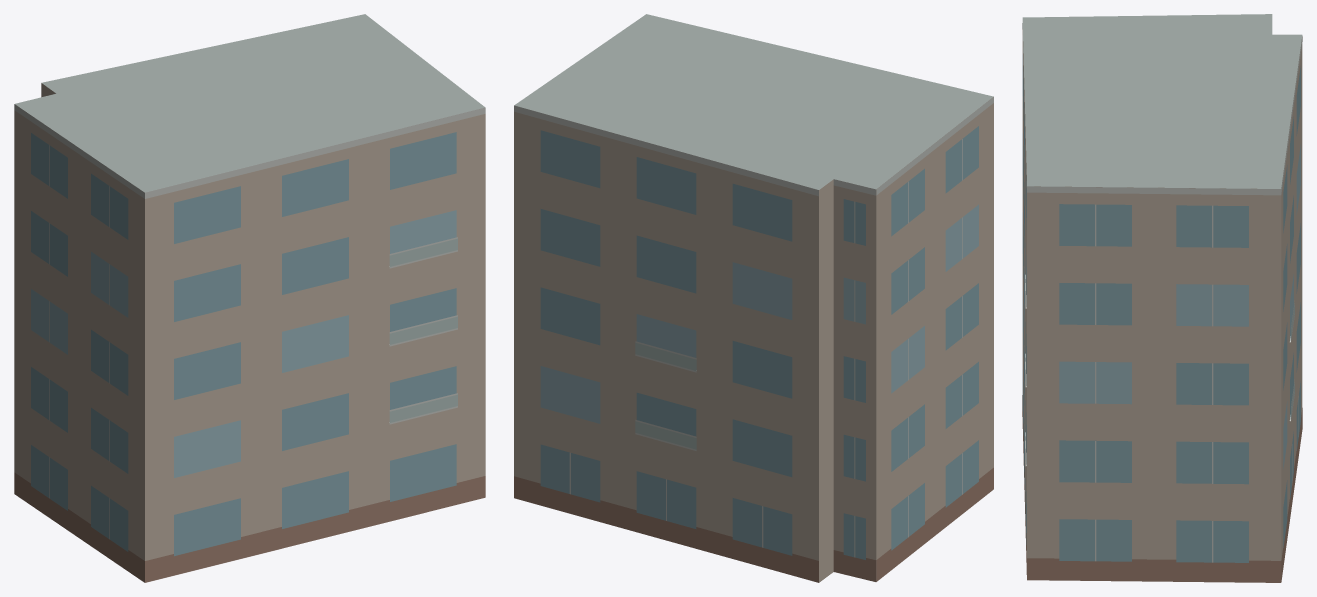
Rendered from survey-upis-32749141.glb.
3 renders of one model, left to right at view 1: azimuth 30°, elevation 25°; view 2: azimuth 150°, elevation 25°; view 3: azimuth 270°, elevation 25°, orthographic.
Visible parts, largest first — view 1: survey-upis-32749141.tmp; view 2: survey-upis-32749141.tmp; view 3: survey-upis-32749141.tmp.
Part boxes in pixels (box(x1,y1,x2,y2)): survey-upis-32749141.tmp: box(14, 14, 485, 582); survey-upis-32749141.tmp: box(514, 14, 993, 582); survey-upis-32749141.tmp: box(1022, 14, 1302, 582).
Bounding box in the file's own units: 14.55 × 15.25 × 9.84.
